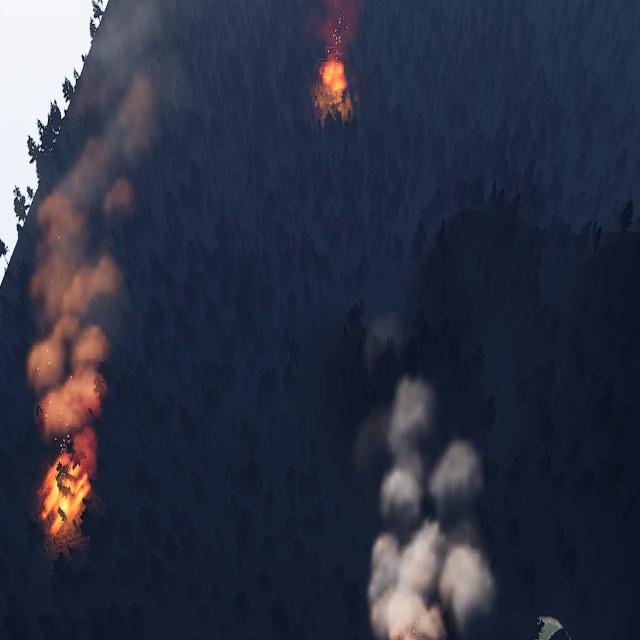fire: (42, 458, 93, 530), (318, 55, 352, 116)
smoke: (28, 9, 159, 456), (360, 368, 496, 638), (310, 0, 370, 49)
